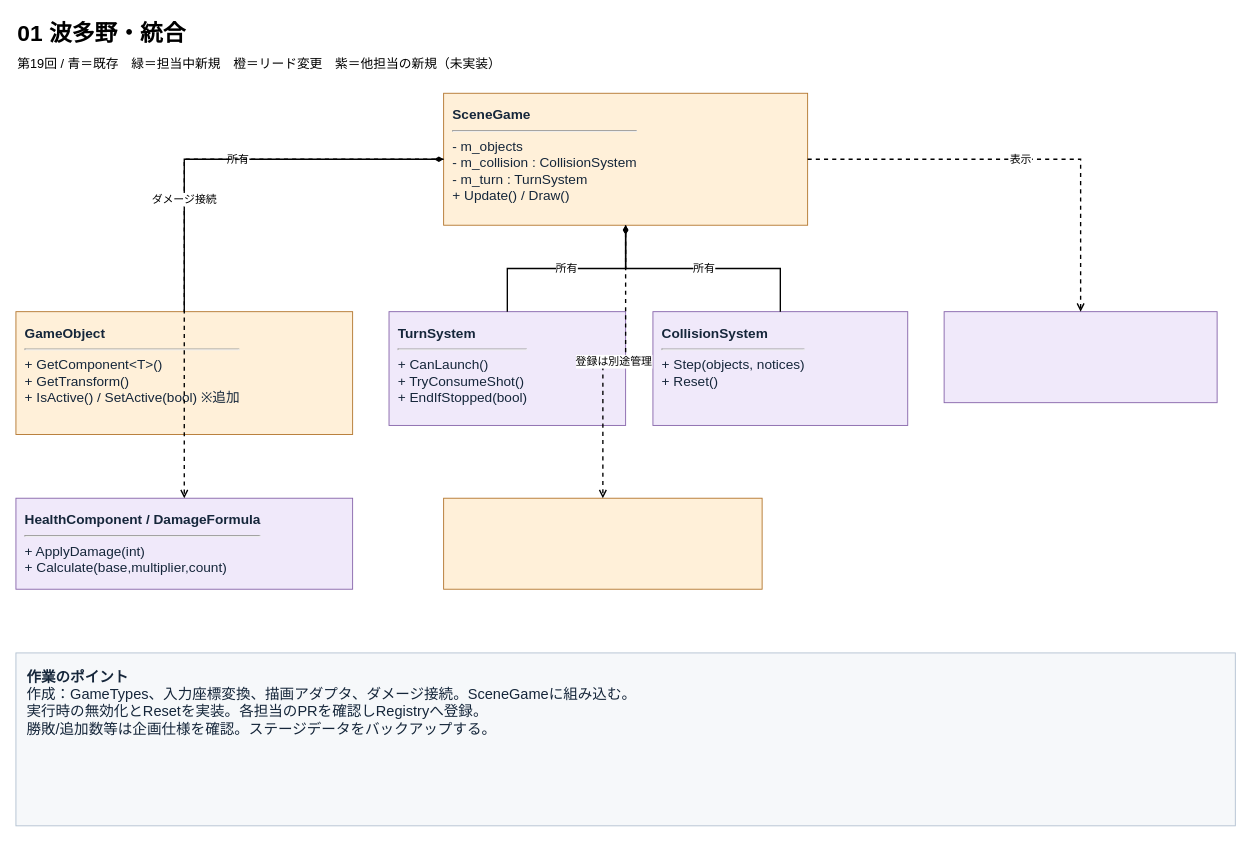
The diagram is 1251 pixels wide and 842 high, and some of its shapes have lost their labels. The box of each missing label's shape, as (x1, y1, x2, y2) in pixels:
ComponentRegistry + GetEntries() / Find() create / save / load: (443, 497, 762, 589)
HudPresenter + Build(HudInput, maxDrag): (943, 311, 1217, 403)
